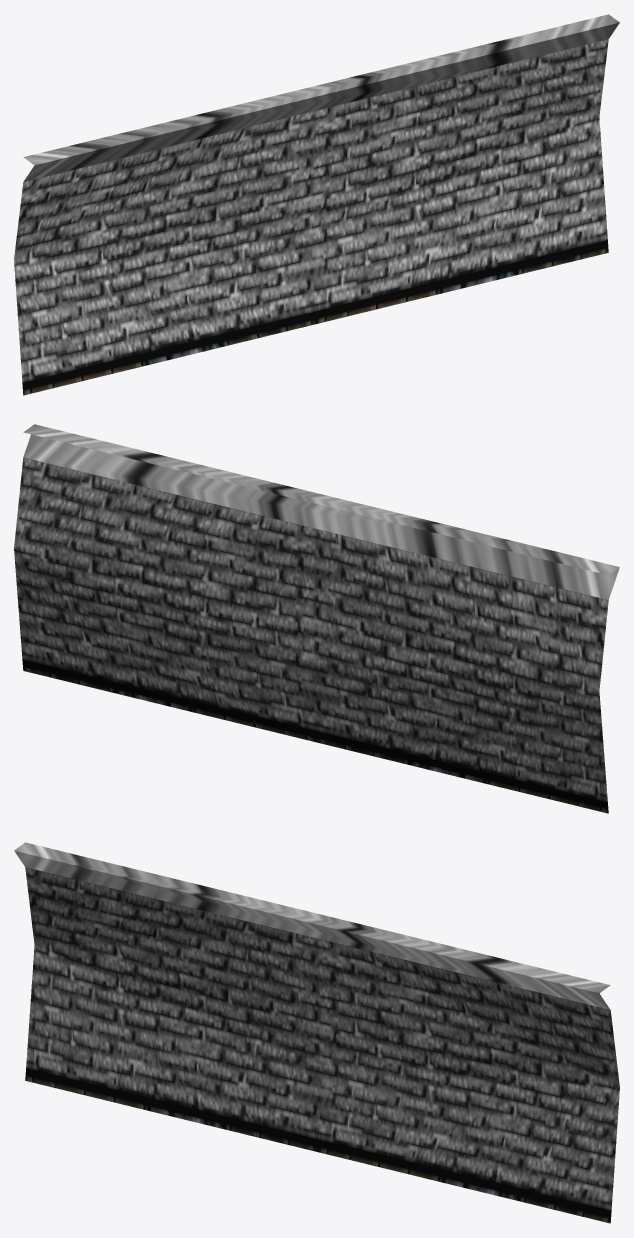
File: W_A3_xxxx [GraueZiegel]_874.glb
The picture shows the model from 3 angles, top to bottom: view 1: azimuth 30°, elevation 25°; view 2: azimuth 150°, elevation 25°; view 3: azimuth 330°, elevation 25°; orthographic projection.
Visible parts, largest first — view 1: polySurfaceShape787, polySurfaceShape1065; view 2: polySurfaceShape787, polySurfaceShape1065; view 3: polySurfaceShape787, polySurfaceShape1065.
Boxes of the visible parts, <box> form: polySurfaceShape787: <box>14,39,608,395</box>; polySurfaceShape1065: <box>23,14,619,181</box>; polySurfaceShape787: <box>14,457,608,813</box>; polySurfaceShape1065: <box>23,424,619,599</box>; polySurfaceShape787: <box>25,867,619,1223</box>; polySurfaceShape1065: <box>14,842,610,1009</box>.
Size of the model in its own units: 1 by 0.3891 by 0.0607.
Materials: 2 (2 with a texture image).
